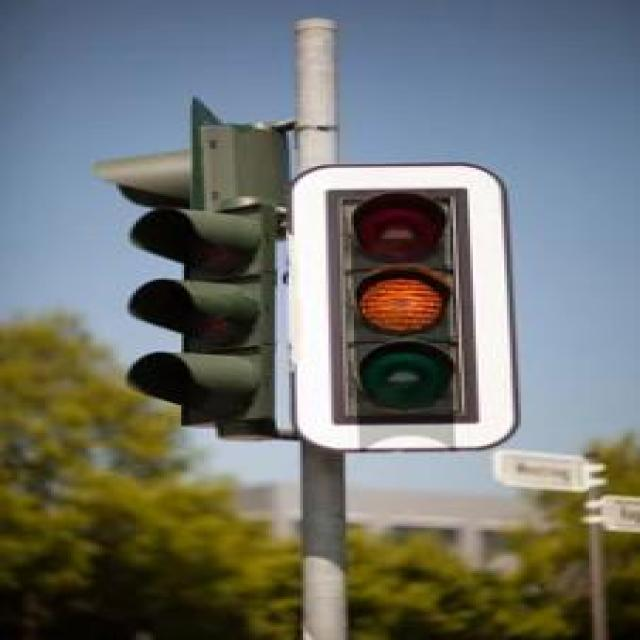yellow_light: (325, 190, 475, 423)
